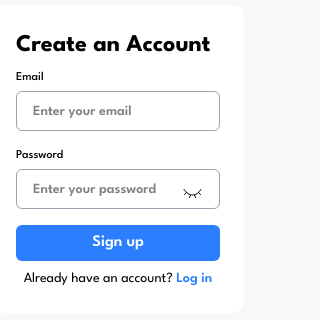
it: auth flow › shows an error for duplicate signup email
Type "existing@test.com" into the field with test id "auth-signup-email".
click(118, 111); type("existing@test.com")  # box [16,91,220,131]
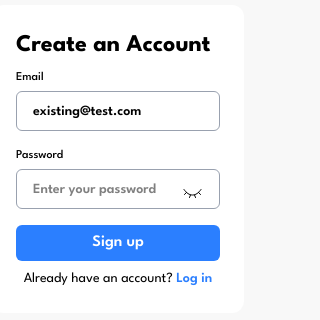
Type "password123" into the password field with test id "auth-signup-password".
click(108, 189); type("password123")  # box [33,170,182,208]
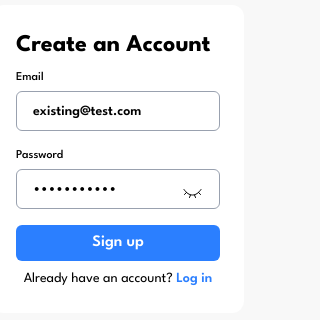
Click the button with test id "auth-signup-submit".
click(118, 243)  # box [16,225,220,261]
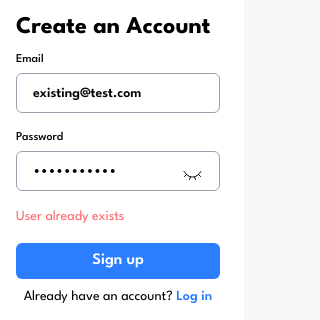
Expected: the text "User already exists" is shown, [16,207,124,227]
